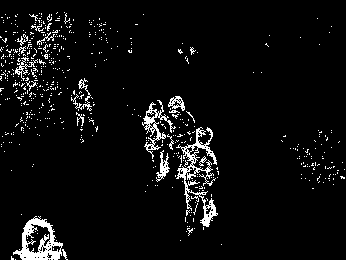person: (177, 124, 220, 236), (166, 94, 195, 181), (144, 98, 171, 186), (71, 78, 99, 145)
